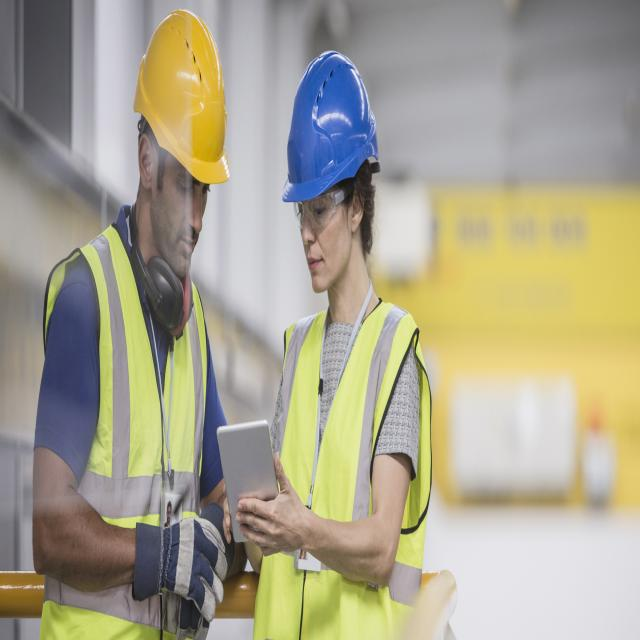goggles: (285, 182, 366, 236)
helmet: (133, 4, 231, 192), (279, 47, 382, 204)
no-goggles: (168, 163, 220, 223)
vest: (38, 218, 213, 640), (252, 304, 434, 640)
